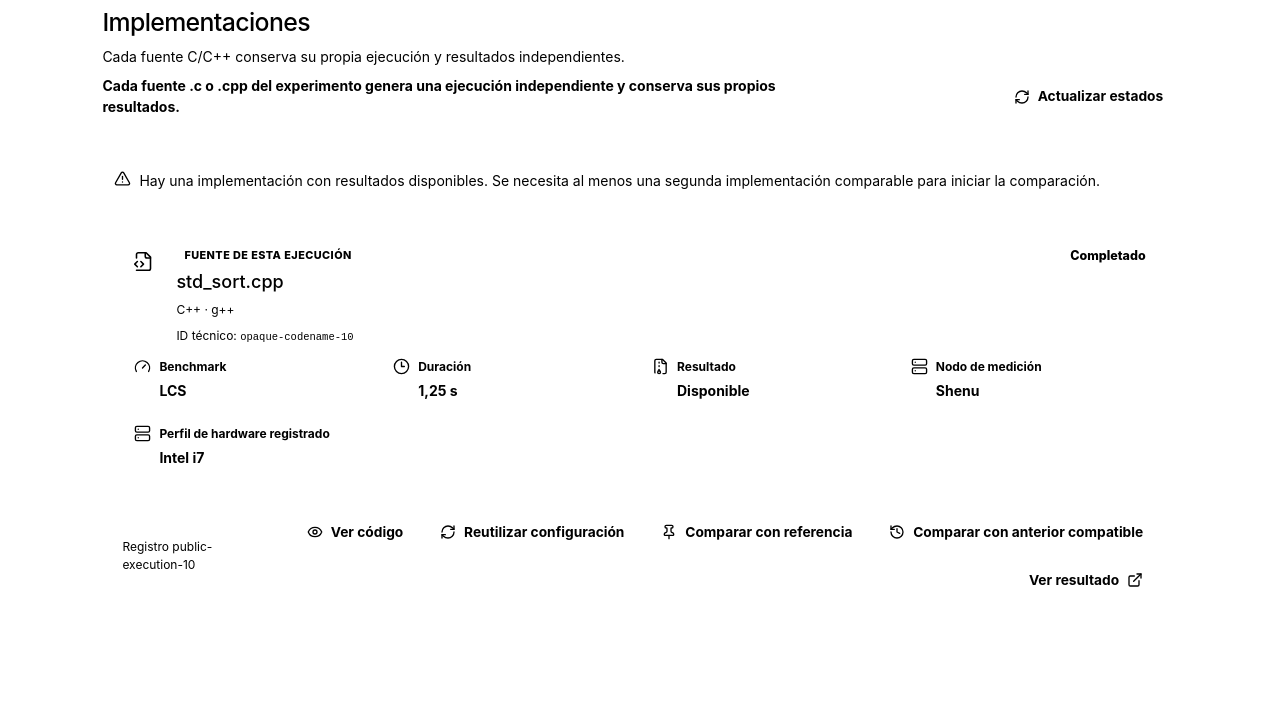
Scenario: SubmissionOverviewPage › reference browser has a useful no-reference state
(page scrolled)
Click the button "Comparar con referencia" at point(757, 532), box x1=647 y1=512 x2=867 y2=552
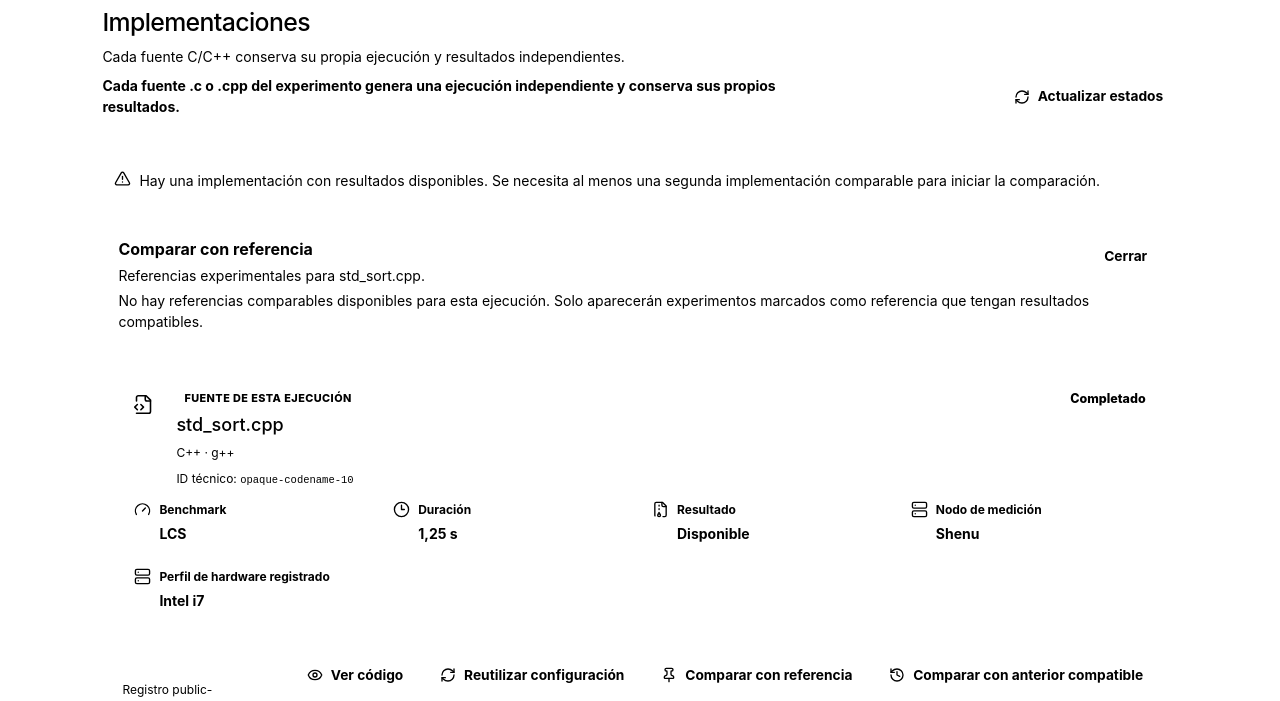
Expected: the text "No hay referencias comparables disponibles para esta ejecución. Solo aparecerán experimentos marcados como referencia qu" is shown, x1=118 y1=292 x2=1089 y2=330
